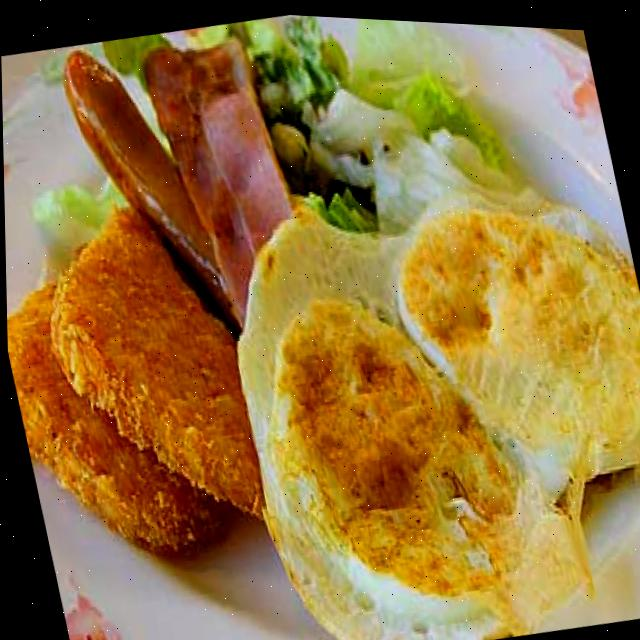鸡蛋料理: (177, 134, 640, 640)
